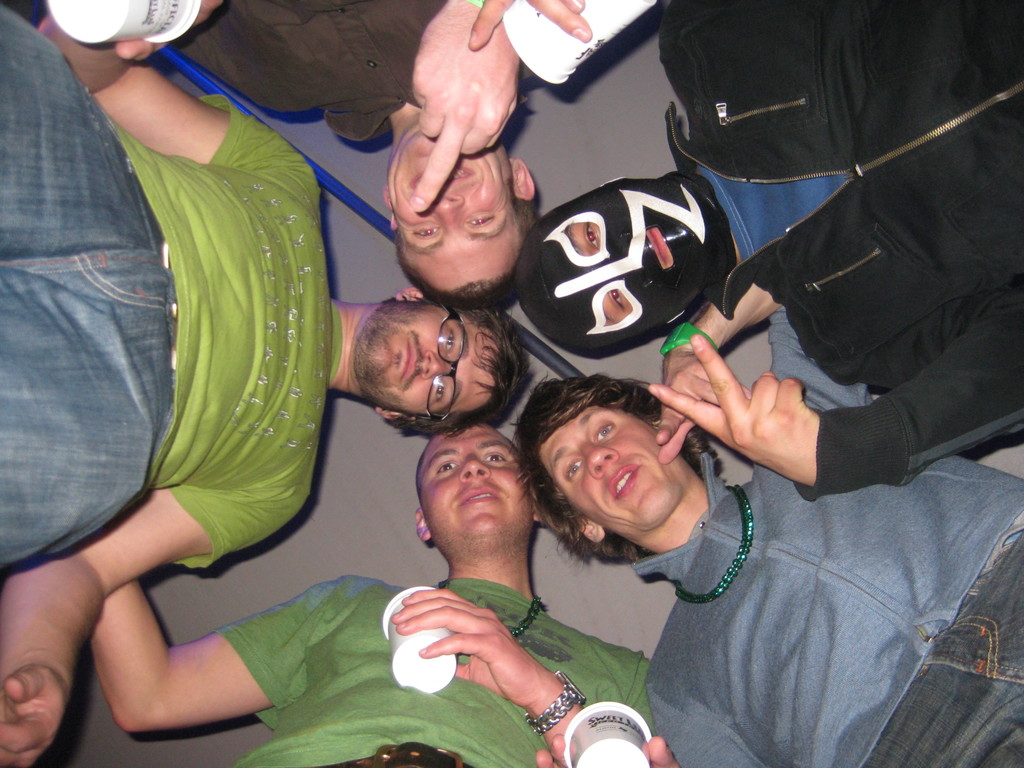Human-face: (535, 175, 712, 358), (390, 129, 522, 294), (542, 403, 685, 538), (355, 298, 500, 415), (417, 421, 534, 548)
